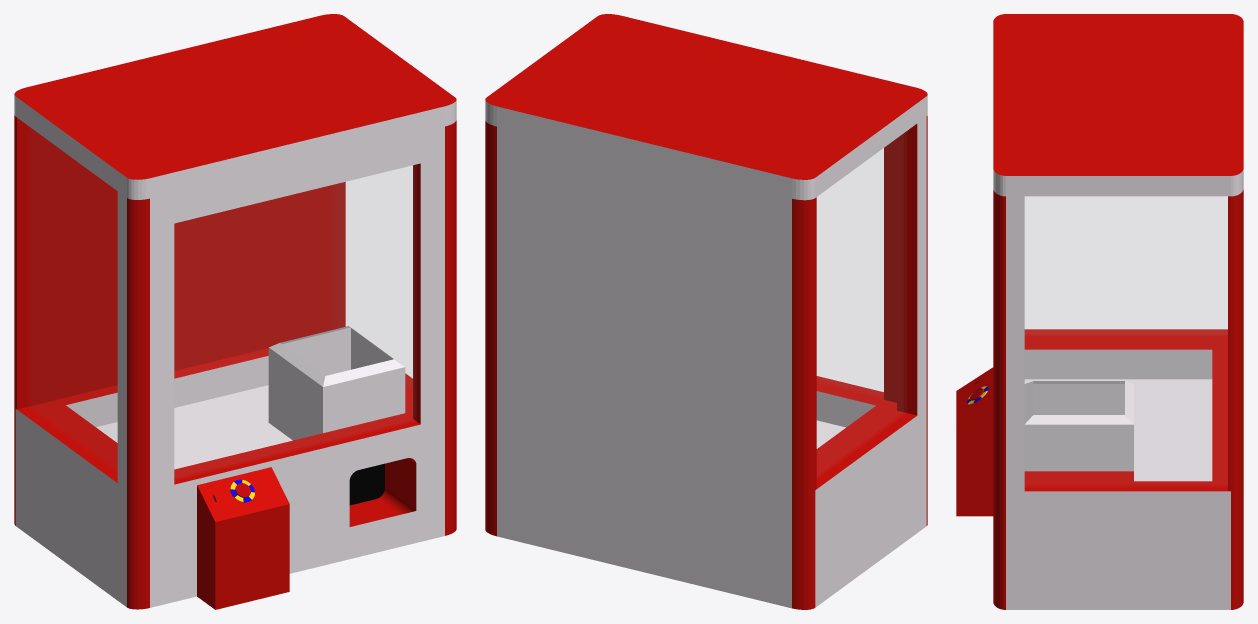
File: UfoMachine.fbx
3 views of the same model, side by side, from view 1: azimuth 30°, elevation 25°; view 2: azimuth 150°, elevation 25°; view 3: azimuth 270°, elevation 25° (orthographic).
Visible parts, largest first — view 1: Machine; view 2: Machine; view 3: Machine.
Part boxes in pixels (box(x1,y1,x2,y2)): Machine: box(14, 14, 456, 609); Machine: box(485, 14, 927, 609); Machine: box(956, 14, 1243, 609).
Size of the model in its own units: 200 by 250 by 150.
